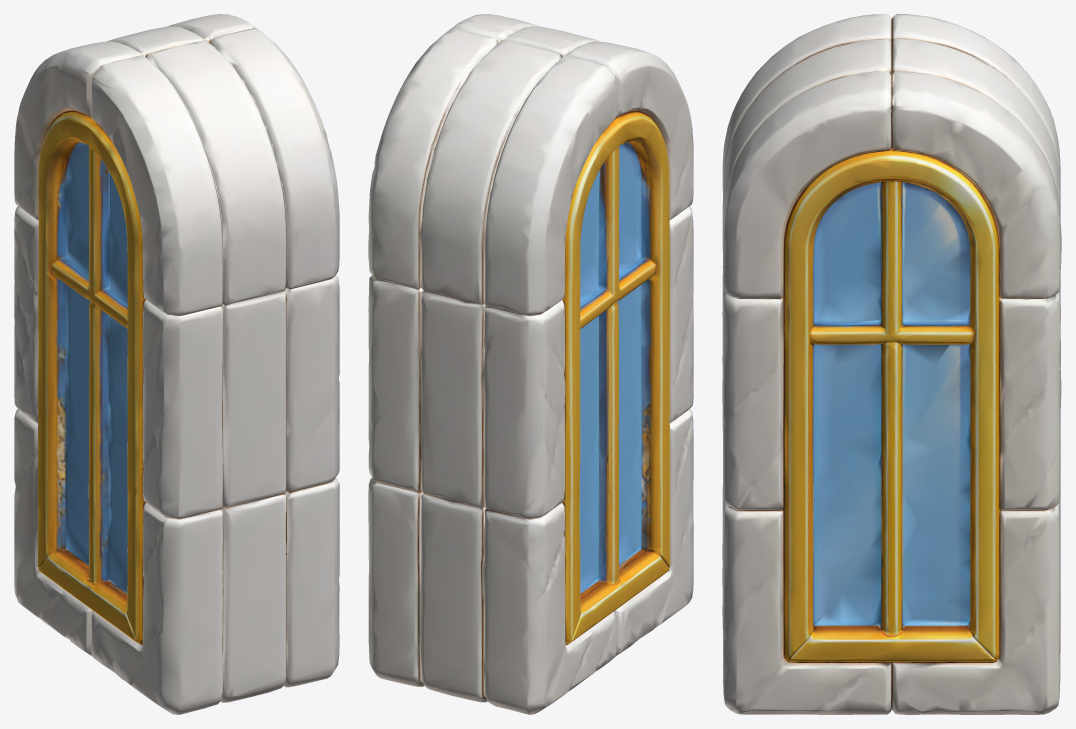
File: HaloPart_TowerWindow_HD_src.glb
The picture shows the model from 3 angles, left to right: view 1: azimuth 30°, elevation 25°; view 2: azimuth 150°, elevation 25°; view 3: azimuth 270°, elevation 25°; orthographic projection. The views are drawn at different scales.
Visible parts, largest first — view 1: tripo_node_06b9b438-80df-4311-b856-86563993de92; view 2: tripo_node_06b9b438-80df-4311-b856-86563993de92; view 3: tripo_node_06b9b438-80df-4311-b856-86563993de92.
Part boxes in pixels (<box>): tripo_node_06b9b438-80df-4311-b856-86563993de92: <box>14,14,339,714</box>; tripo_node_06b9b438-80df-4311-b856-86563993de92: <box>368,14,693,714</box>; tripo_node_06b9b438-80df-4311-b856-86563993de92: <box>722,14,1061,714</box>.
Size of the model in its own units: 0.31 by 0.9794 by 0.4822.
1 material, 1 textured.
